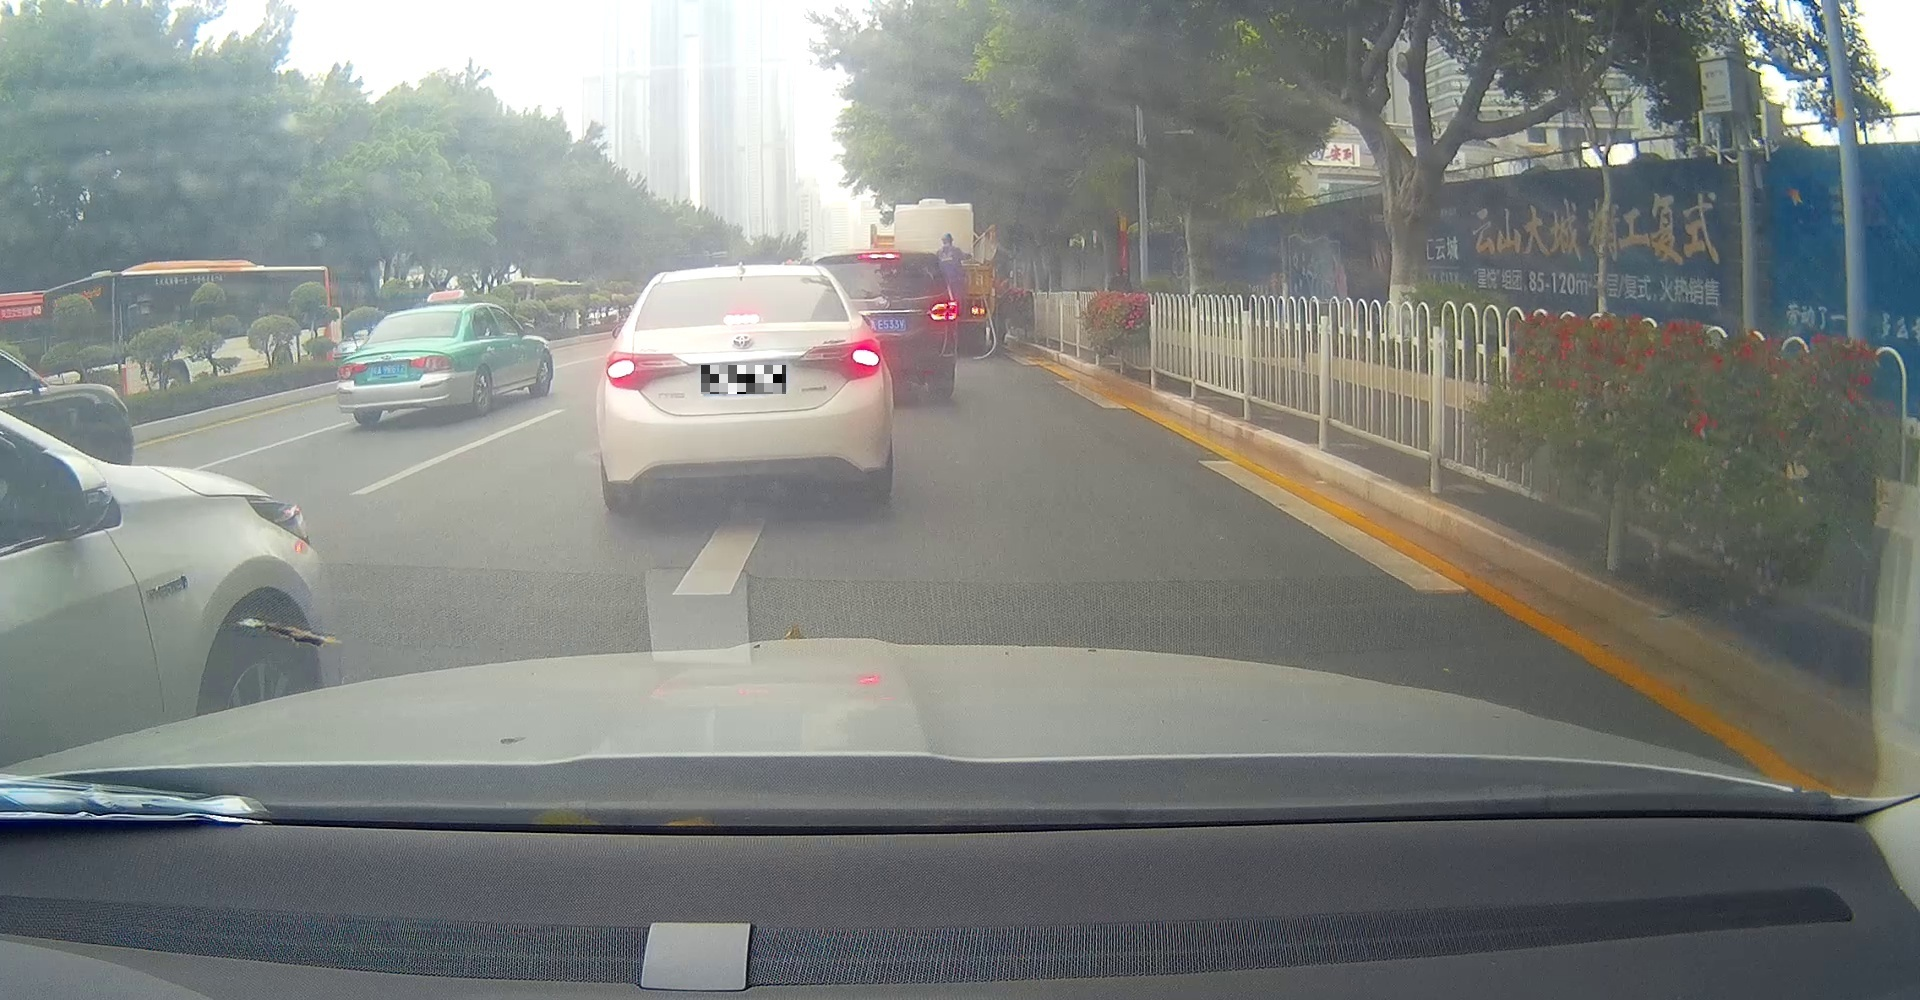L_light: (604, 352, 697, 392), (334, 359, 370, 381)
R_light: (791, 338, 881, 382), (408, 354, 453, 374)
T_light: (723, 312, 759, 325), (411, 310, 437, 315)
day-brake: (596, 265, 891, 511)
day-no: (333, 306, 472, 428)
plate_1: (701, 365, 786, 393)
